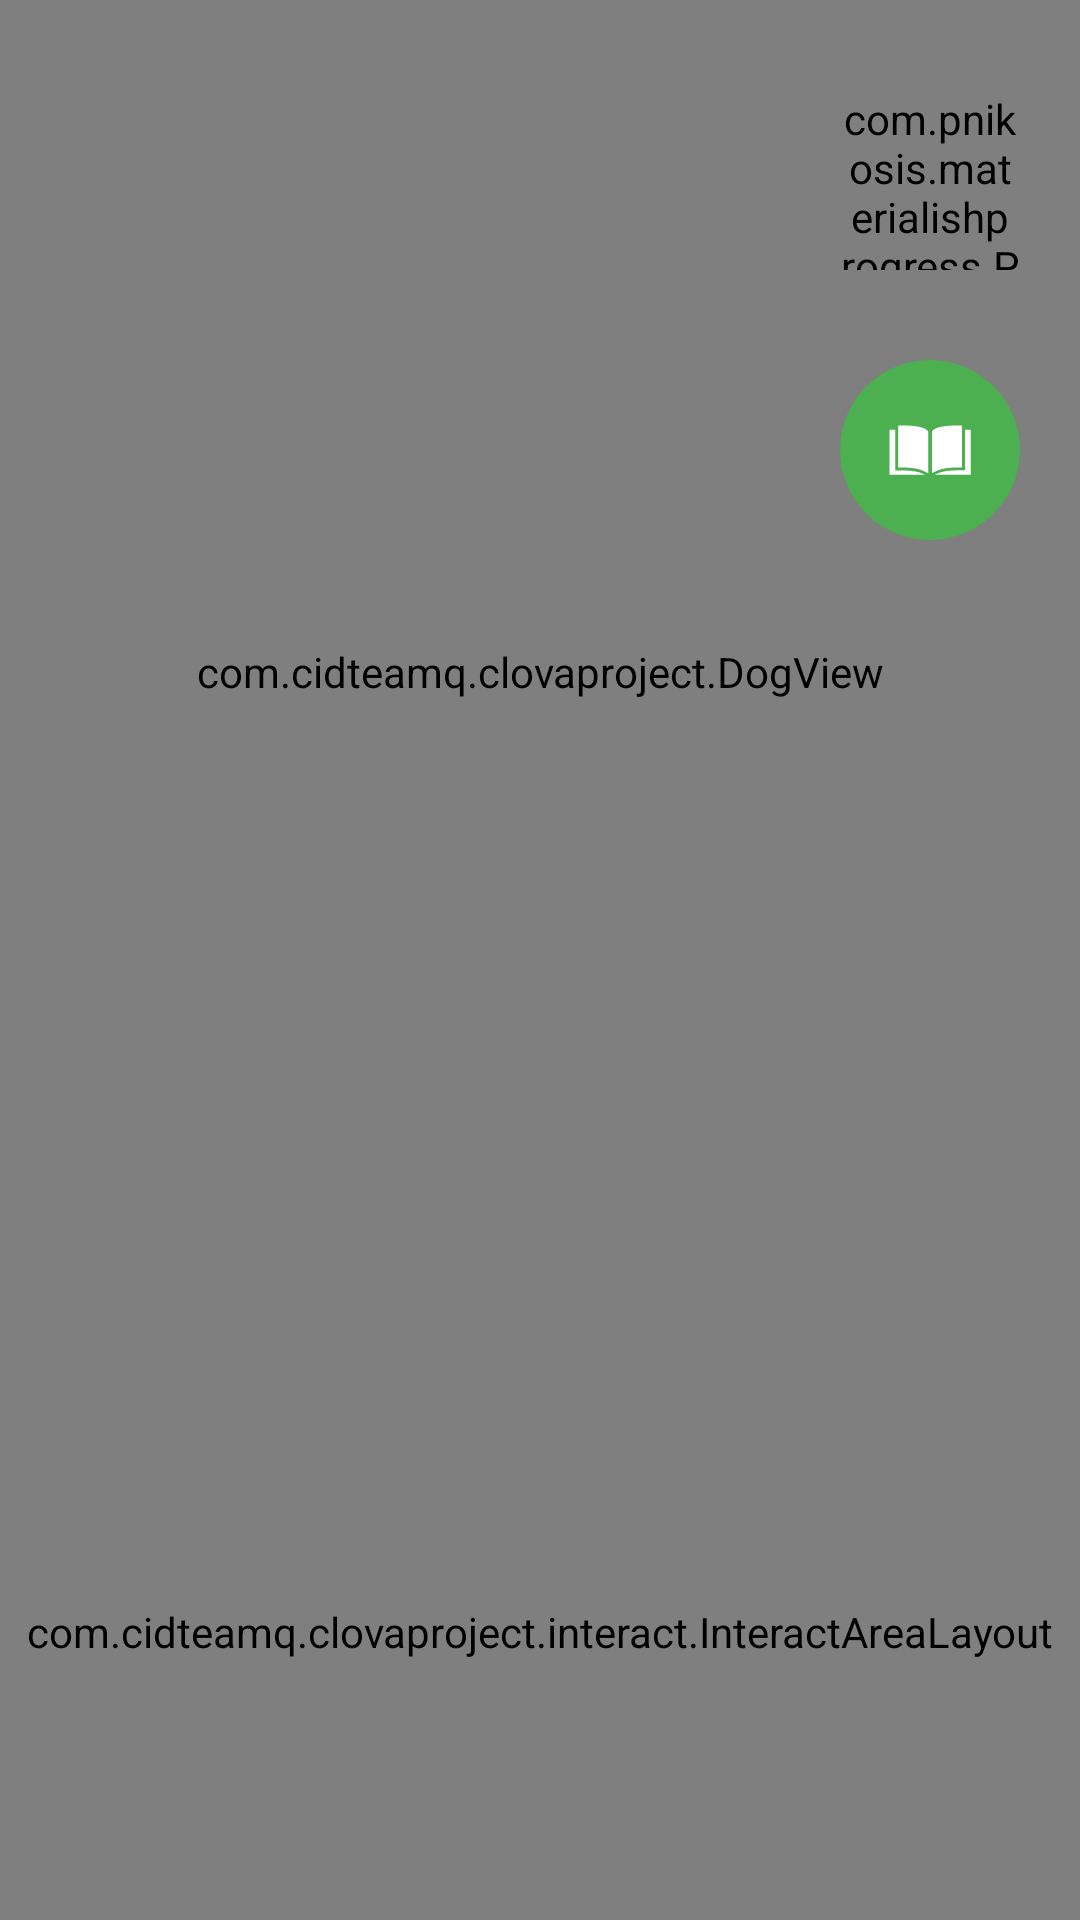

Icon click points for this 1080px x 1920px phone screenshot, format (x=x, y=y):
introduction: (x=930, y=450)
